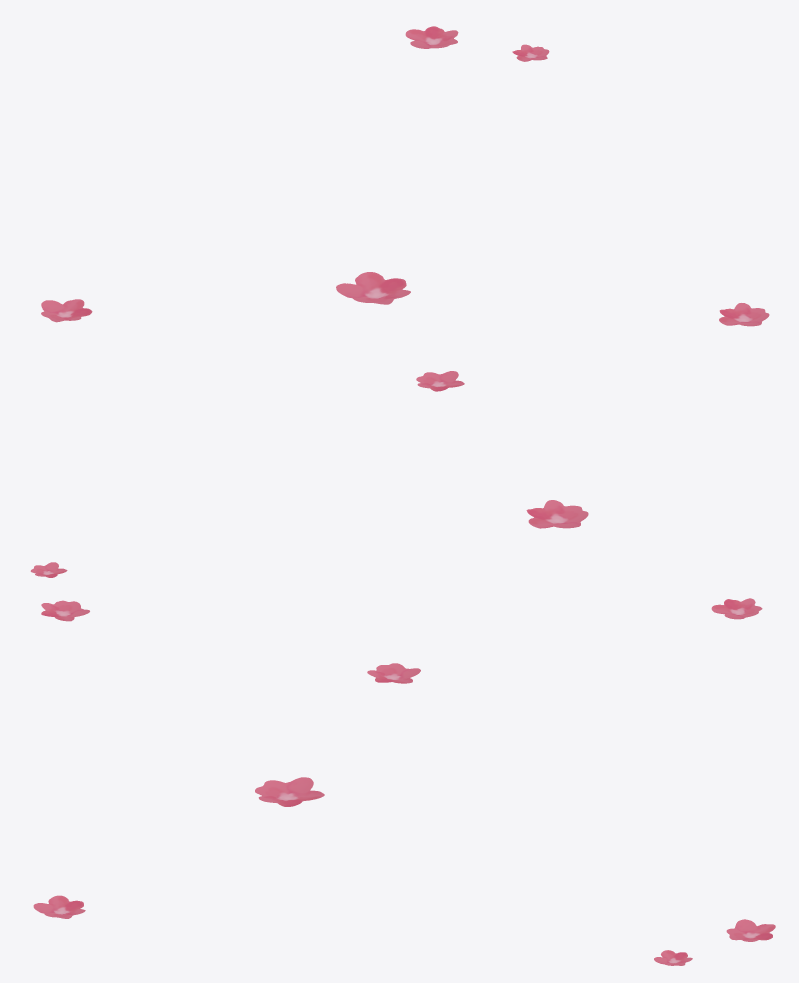
Rendered from Scene_hua_003.FBX.
3 renders of one model, top to bottom at view 1: azimuth 30°, elevation 25°; view 2: azimuth 150°, elevation 25°; view 3: azimuth 270°, elevation 25°, orthographic. The views are drawn at different scales.
Visible parts, largest first — view 1: Scene_hua_003; view 2: Scene_hua_003; view 3: Scene_hua_003.
Boxes of the visible parts, bbox=[...] form: Scene_hua_003: bbox=[41, 26, 769, 326]; Scene_hua_003: bbox=[30, 371, 762, 621]; Scene_hua_003: bbox=[33, 663, 775, 965].
Bounding box in the file's own units: 134 × 2.06 × 139.
